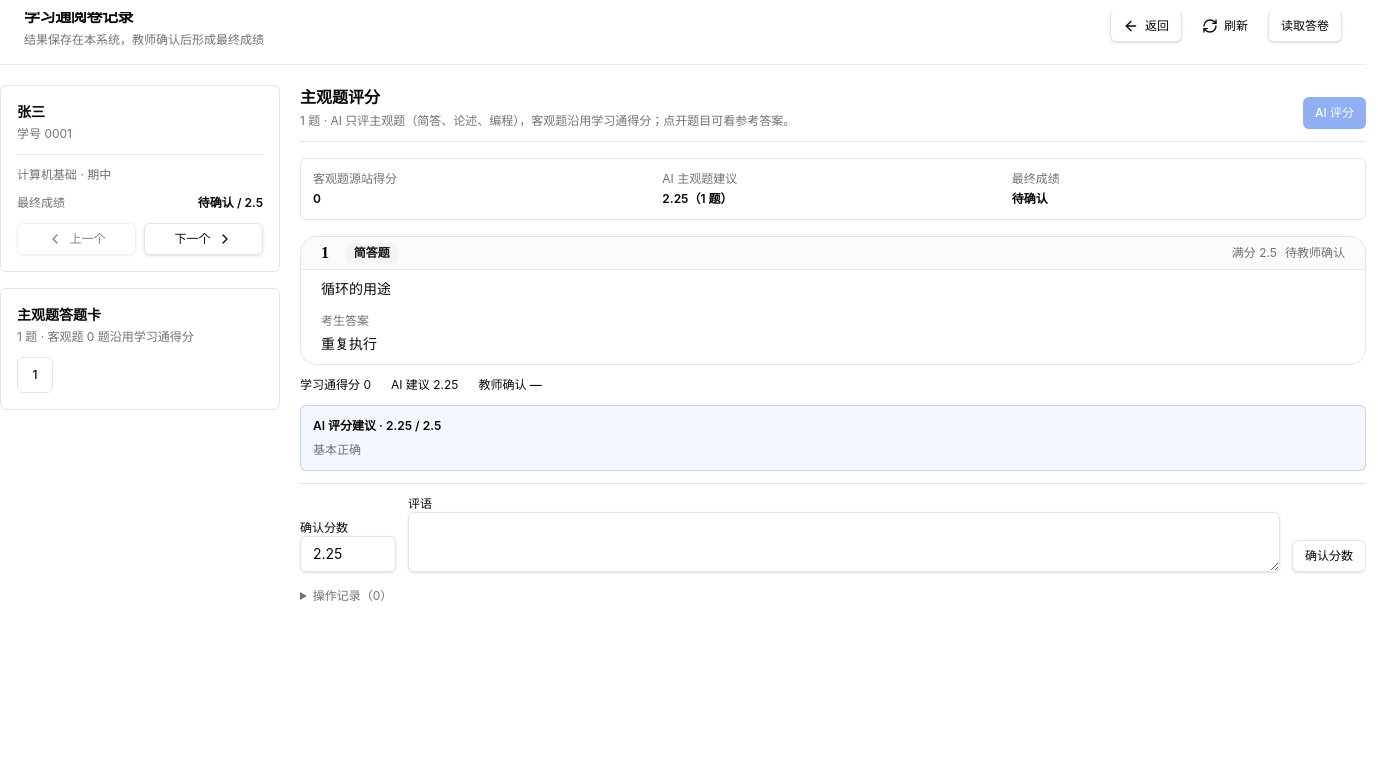
学习通结果复核 › 已保存答卷按考生切换到同场考试的下一位
The width and height of the screenshot is (1378, 780).
Expected: the heading "张三" is shown, [17,103,45,120]
Step 1. Click the button "下一个" → x=204, y=239, box [144,223,263,255]
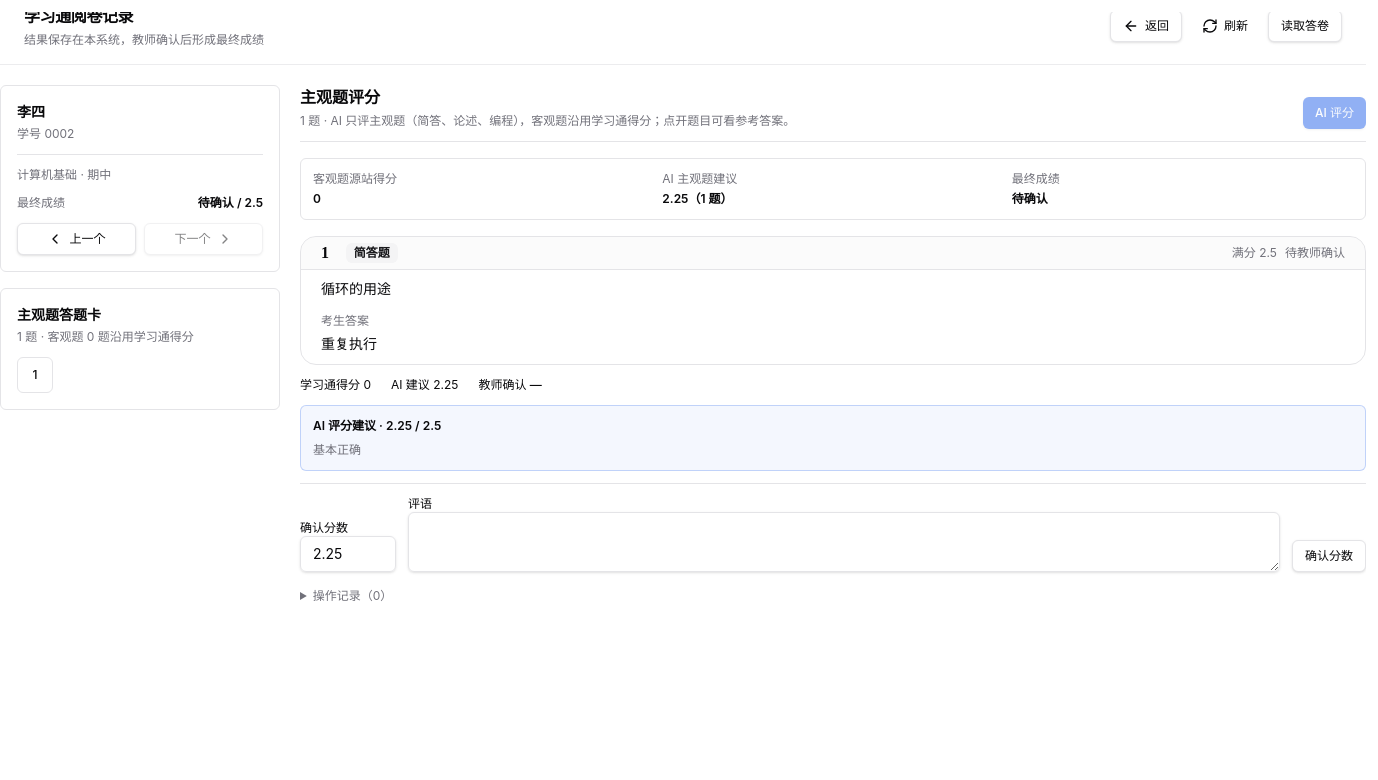
Result: the heading "李四" is shown at [17,103,45,120]
Result: the button "上一个" is enabled at [17,223,136,255]
